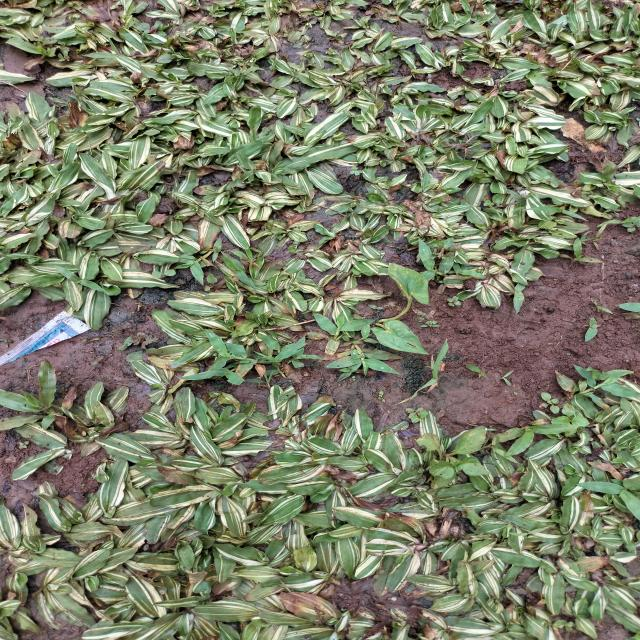buah daun: (445, 130, 482, 162), (129, 332, 159, 349)
rambat atas: (322, 338, 402, 384), (405, 339, 451, 397), (574, 480, 640, 520), (572, 363, 640, 399), (203, 328, 261, 370), (312, 310, 377, 342), (417, 236, 454, 279), (174, 365, 246, 385), (286, 335, 328, 369), (173, 254, 210, 286), (262, 329, 309, 354), (522, 205, 590, 222), (252, 348, 305, 368), (81, 35, 122, 60), (243, 369, 276, 389), (513, 282, 527, 316), (583, 316, 600, 342), (212, 236, 222, 262)
rambat bawah: (490, 422, 582, 458), (559, 237, 606, 266)
tunggang besar: (416, 426, 494, 481)
ungu tunggang: (429, 236, 470, 263)
